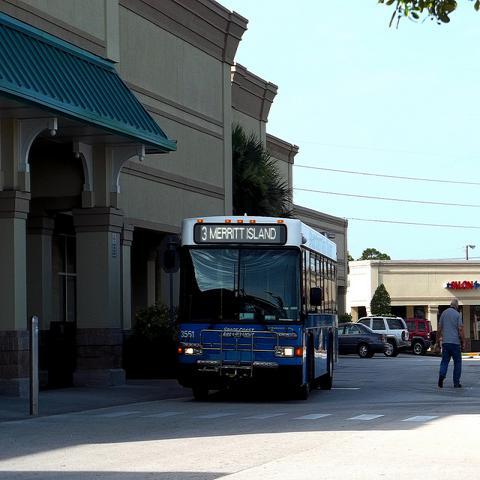bus: (176, 218, 341, 403)
car: (356, 316, 409, 356), (338, 323, 387, 358), (405, 319, 438, 356)
